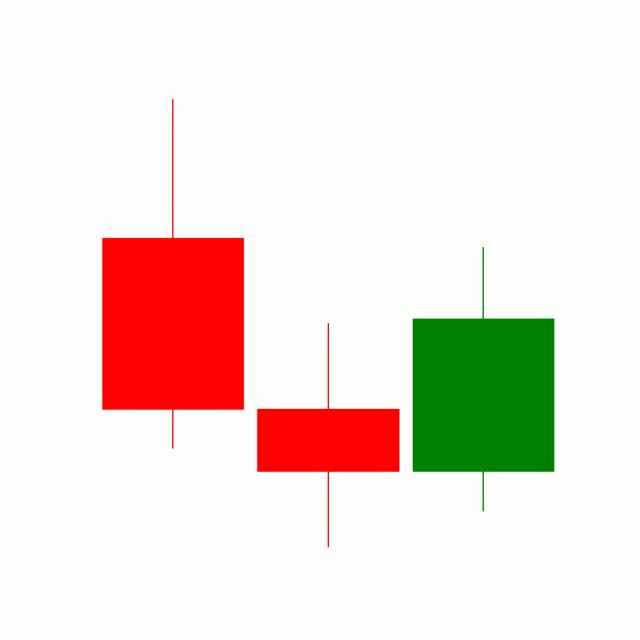Spinning Top: (249, 320, 406, 550)
